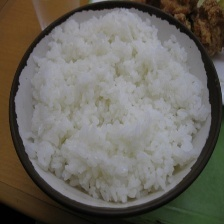rice: (10, 5, 214, 205)
